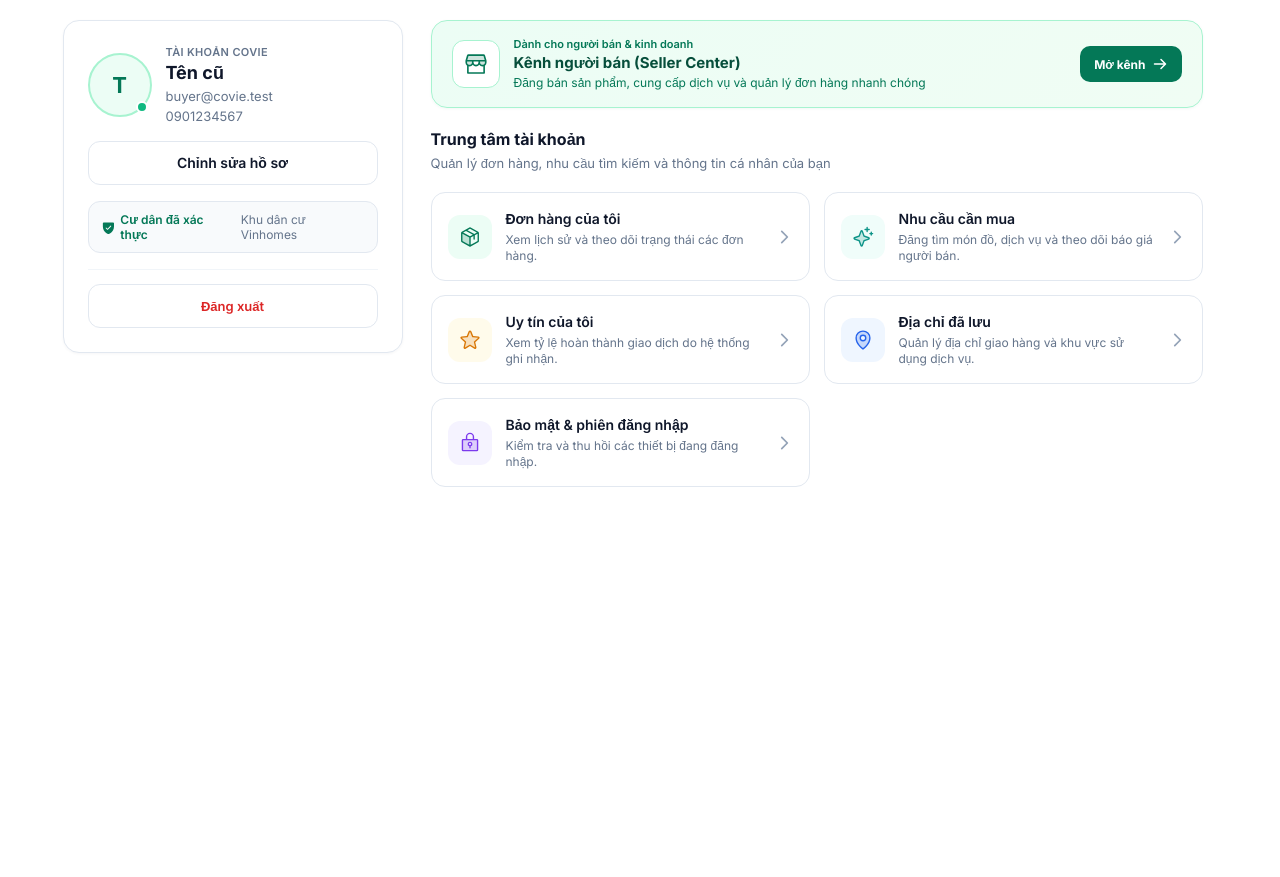
it: updates overview from saved server response and restores edit focus
The width and height of the screenshot is (1280, 877).
Click the button "Chỉnh sửa hồ sơ".
click(232, 163)  # box [88, 141, 378, 185]
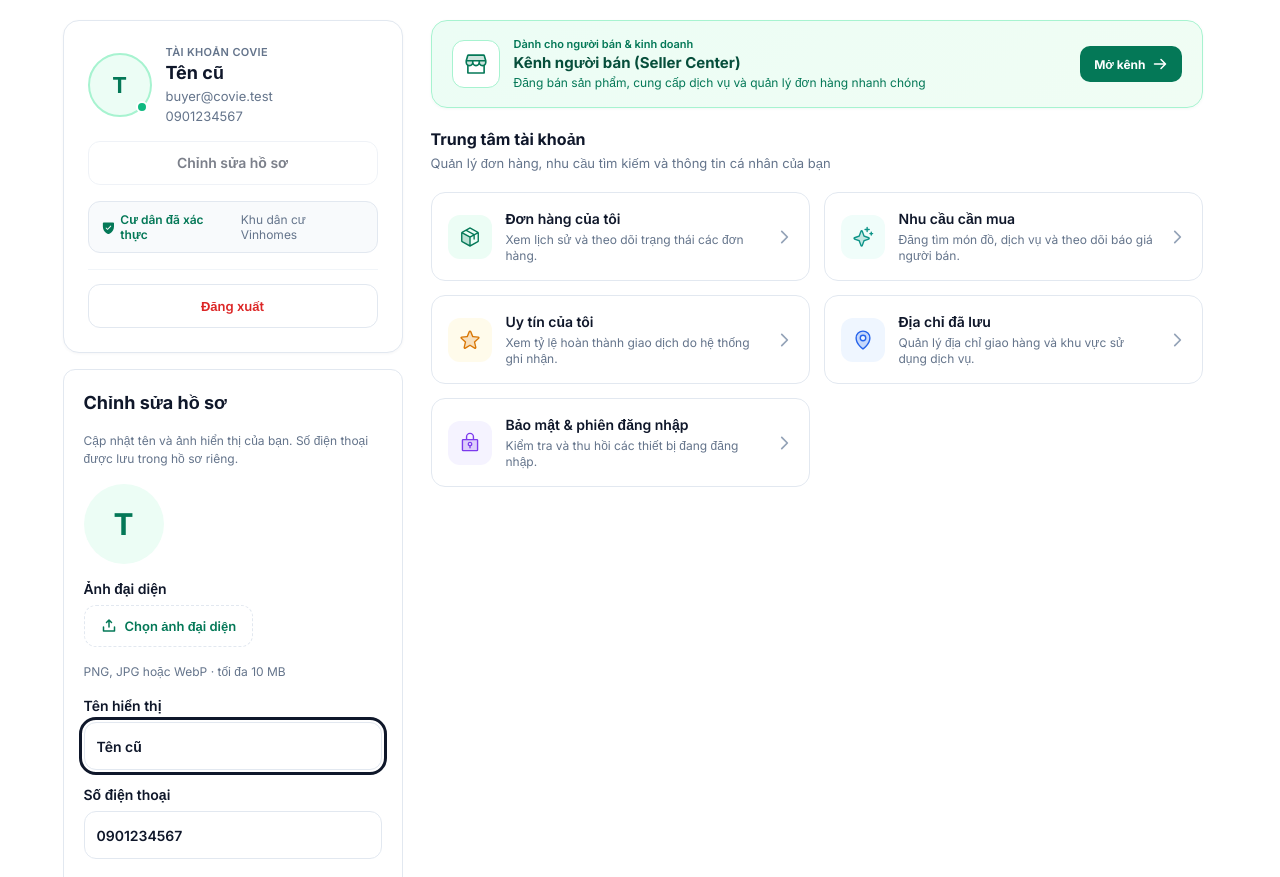
Replace the text in the field labelled "Tên hiển thị" with "Tên mới" at [232, 746], box [84, 722, 382, 770]
(page scrolled)
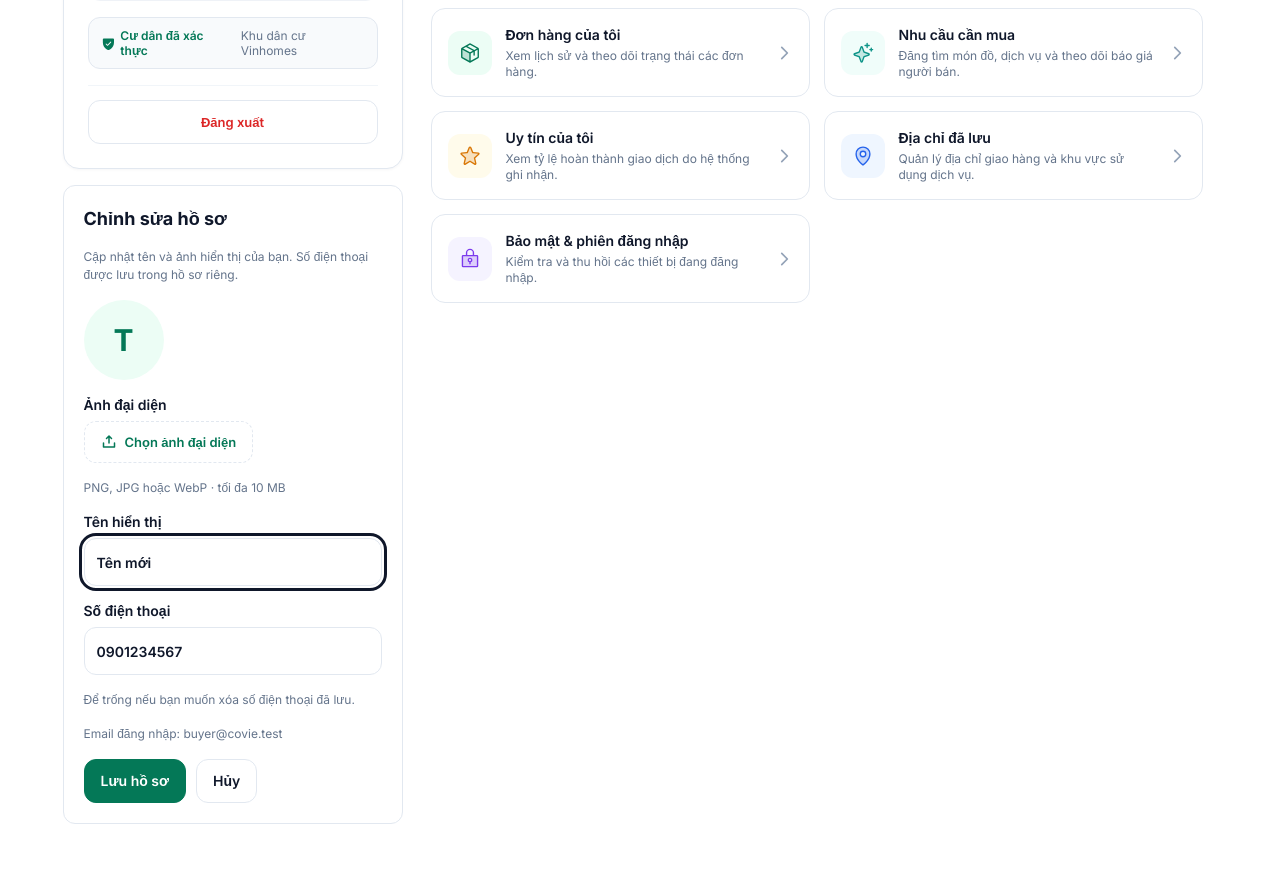
Submit the form "Chỉnh sửa hồ sơ", box [62, 185, 402, 824]
(page scrolled)
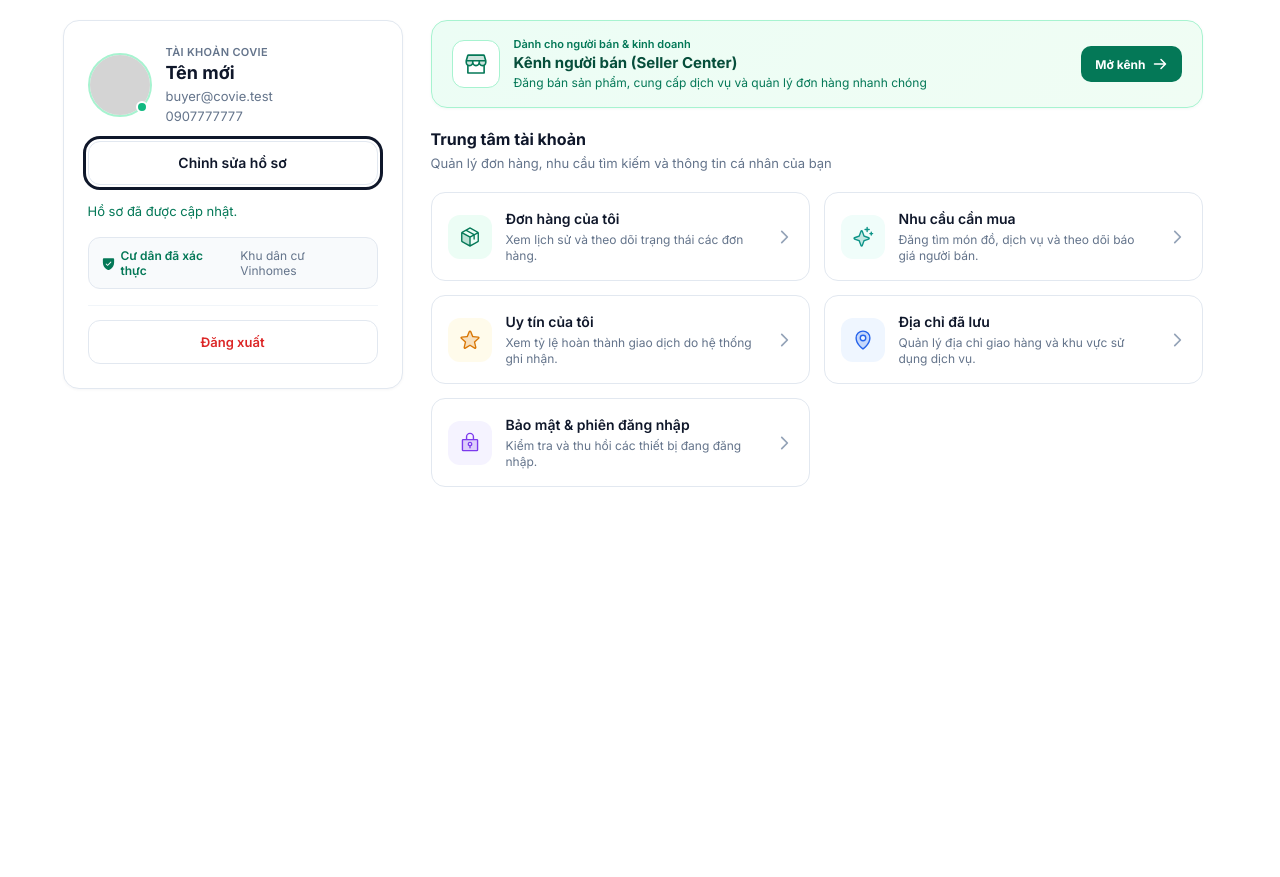
Expected: the heading "Tên mới" is shown, [166, 62, 235, 83]
Expected: the text "0907777777" is shown, [166, 108, 243, 124]
Expected: the form is gone
